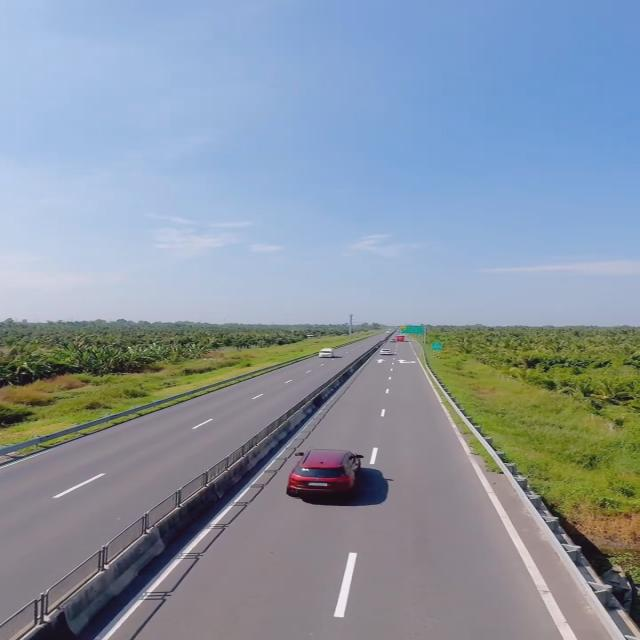car: (285, 446, 363, 500)
